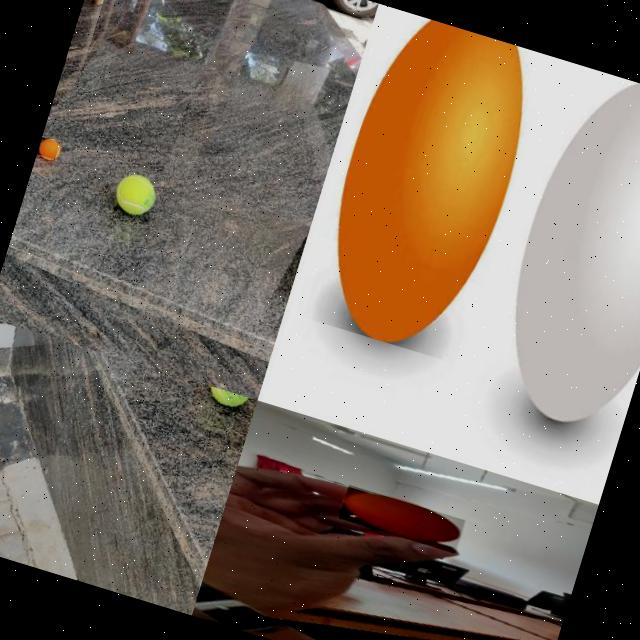ping-pong-ball: (302, 9, 548, 364), (338, 484, 467, 554), (36, 136, 61, 160)
